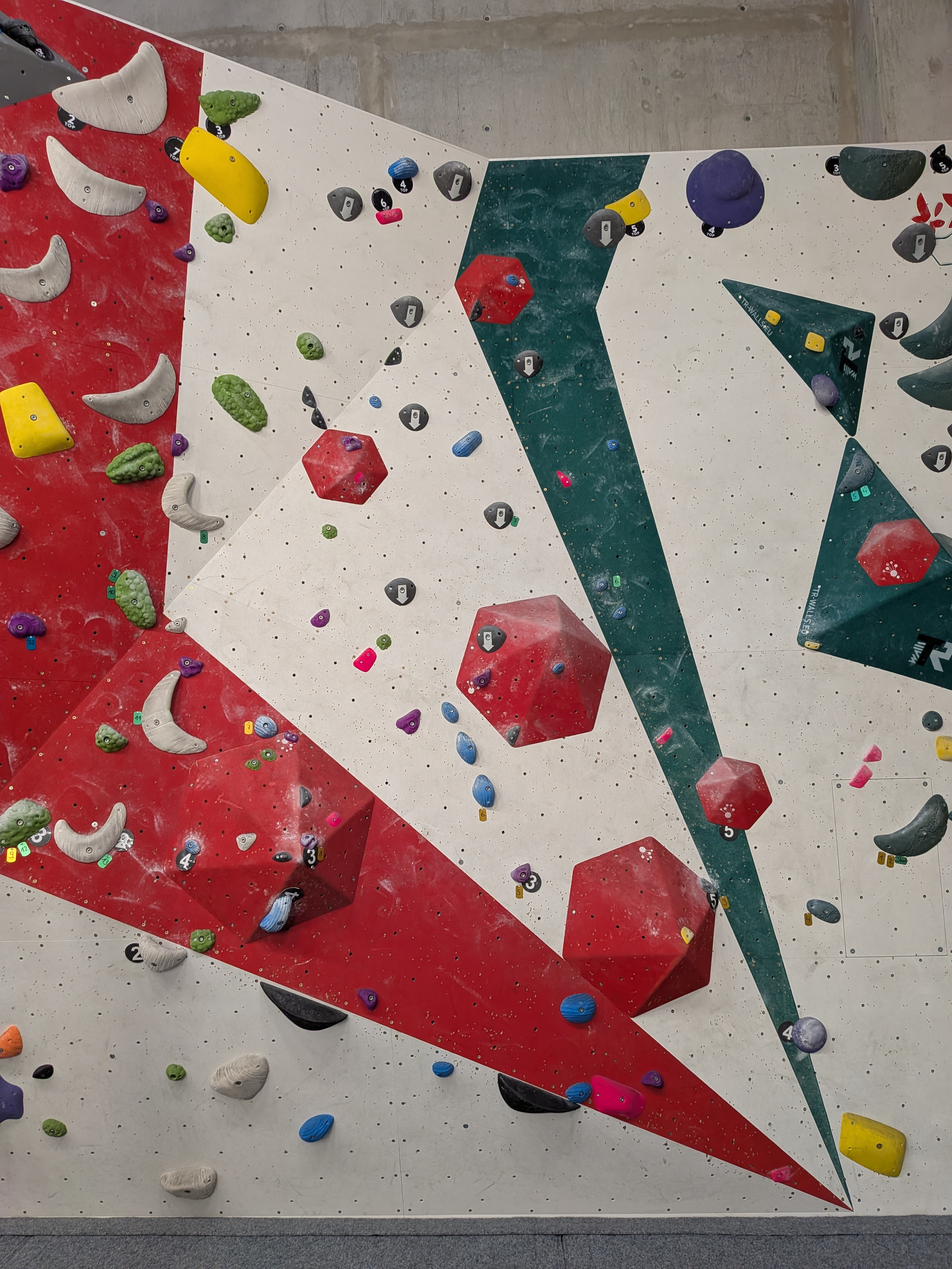hold: (52, 42, 167, 134), (180, 127, 268, 223), (45, 137, 146, 216), (83, 354, 177, 424), (687, 150, 765, 230), (0, 382, 74, 458), (142, 670, 206, 754), (838, 146, 926, 200), (874, 794, 949, 857), (0, 235, 70, 302), (53, 803, 126, 863), (839, 1112, 906, 1177), (259, 981, 347, 1030), (162, 472, 224, 531), (497, 1073, 579, 1114), (900, 301, 952, 359), (213, 375, 267, 429), (898, 358, 952, 410), (212, 1055, 268, 1099), (0, 799, 50, 848), (591, 1075, 645, 1120), (115, 569, 156, 628), (103, 444, 162, 484), (199, 90, 260, 125), (161, 1167, 217, 1199), (139, 935, 187, 971), (583, 208, 626, 247), (606, 189, 651, 226), (893, 223, 936, 261), (837, 450, 875, 493), (434, 161, 473, 202), (0, 18, 40, 51), (791, 1017, 827, 1053), (260, 894, 293, 933), (0, 153, 29, 192), (327, 189, 361, 221), (0, 1077, 23, 1122), (8, 612, 45, 638), (561, 994, 595, 1022), (392, 296, 422, 327), (204, 213, 235, 243), (298, 1115, 332, 1142), (812, 374, 838, 408), (0, 507, 20, 549), (879, 311, 909, 339), (921, 445, 952, 472), (384, 579, 414, 606), (475, 626, 506, 652), (806, 899, 841, 922), (97, 724, 126, 751), (452, 431, 482, 457), (399, 404, 427, 430), (485, 502, 513, 528), (0, 1025, 22, 1058), (514, 351, 541, 377), (388, 156, 419, 178), (297, 333, 323, 359), (473, 776, 494, 808), (190, 929, 215, 953), (564, 1082, 592, 1103), (144, 198, 167, 223), (850, 764, 872, 788), (179, 656, 203, 678), (354, 648, 376, 672), (458, 734, 475, 764), (397, 711, 420, 733), (357, 988, 379, 1011), (254, 717, 277, 738), (42, 1118, 66, 1138), (511, 863, 532, 884), (173, 243, 195, 263), (376, 208, 402, 224), (769, 1165, 792, 1183), (936, 736, 952, 761), (922, 711, 942, 731), (310, 608, 330, 628), (805, 331, 824, 352), (642, 1070, 663, 1088), (698, 877, 719, 895), (170, 434, 187, 456), (432, 1061, 454, 1078), (863, 744, 882, 763), (472, 669, 491, 688), (236, 833, 256, 851), (312, 406, 327, 429), (655, 727, 673, 746), (300, 832, 319, 850), (166, 616, 186, 633), (505, 724, 520, 746), (384, 346, 401, 365), (341, 436, 361, 452), (442, 702, 457, 723), (469, 298, 482, 321), (302, 386, 315, 408), (33, 1065, 53, 1079), (167, 1064, 184, 1080), (557, 470, 571, 488), (300, 786, 312, 807), (376, 634, 392, 649), (681, 926, 694, 944), (185, 839, 200, 854), (765, 310, 780, 325), (930, 143, 945, 158), (245, 757, 261, 770), (261, 748, 277, 761), (327, 812, 341, 826), (612, 605, 626, 619), (606, 438, 620, 452), (505, 273, 520, 286), (273, 851, 292, 861), (321, 525, 335, 538), (595, 578, 608, 592), (284, 731, 299, 743), (552, 661, 565, 674), (804, 641, 821, 650), (354, 471, 364, 485), (370, 397, 381, 409), (227, 191, 227, 191), (177, 491, 177, 491)
volume: (162, 729, 377, 944), (795, 433, 952, 690), (562, 836, 720, 1019), (720, 277, 876, 439), (456, 593, 613, 748), (0, 11, 89, 109), (300, 427, 389, 505), (454, 254, 535, 325), (855, 518, 940, 585), (695, 756, 773, 829)
